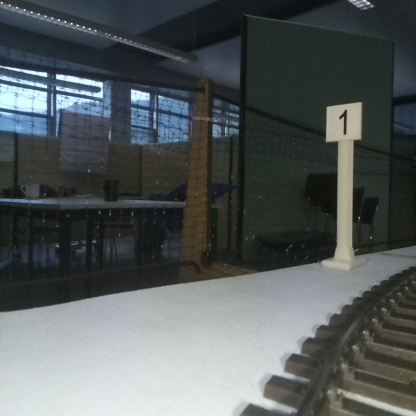white-info-1: (326, 102, 361, 265)
